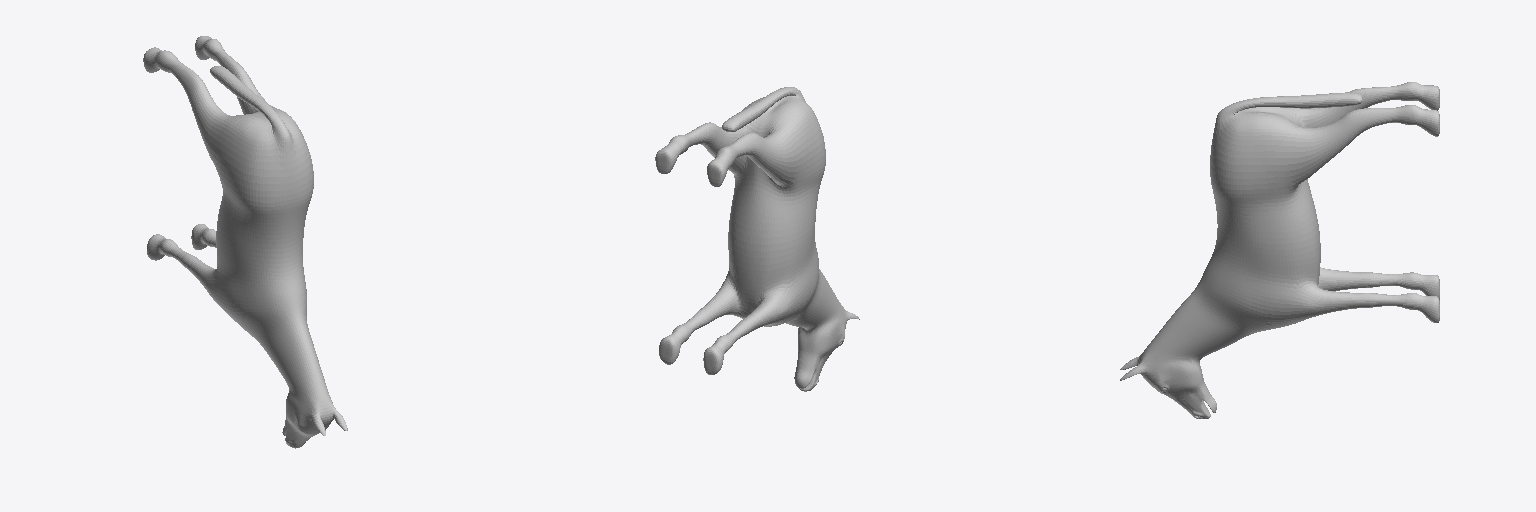
The model's file is 10026_Horse_v01-it2_centered.obj.
3 views of the same model, side by side, from view 1: azimuth 30°, elevation 25°; view 2: azimuth 150°, elevation 25°; view 3: azimuth 270°, elevation 25° (orthographic).
Parts seen in each view (by area): view 1: 10026_Horse_v01; view 2: 10026_Horse_v01; view 3: 10026_Horse_v01.
Boxes of the visible parts, x1,y1,x2,y2 form: 10026_Horse_v01: [143, 36, 347, 448]; 10026_Horse_v01: [655, 87, 859, 391]; 10026_Horse_v01: [1120, 82, 1439, 418].
Size of the model in its own units: 427 by 1791 by 1599.